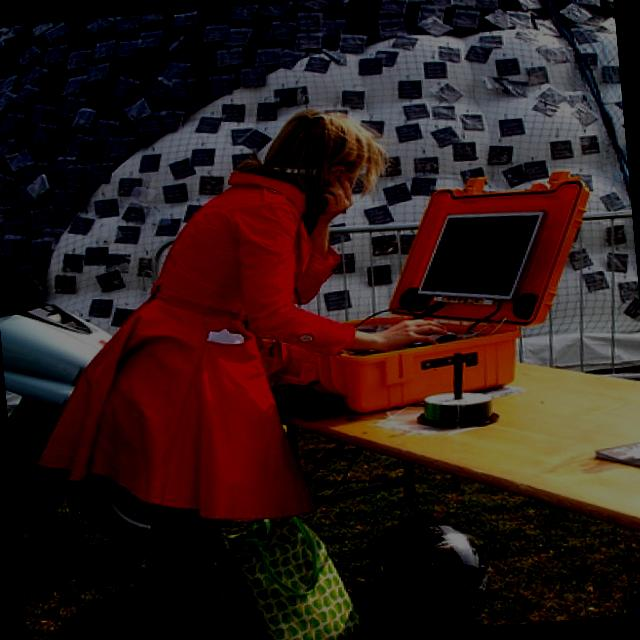Vehicle: (0, 186, 158, 585)
